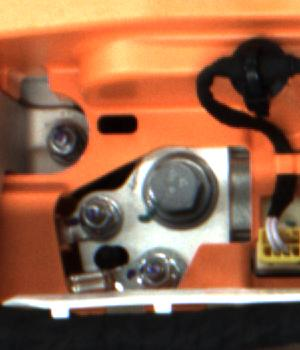nut_b: (138, 148, 221, 225)
screw_s: (138, 249, 176, 286), (46, 119, 77, 159), (83, 196, 115, 232)
